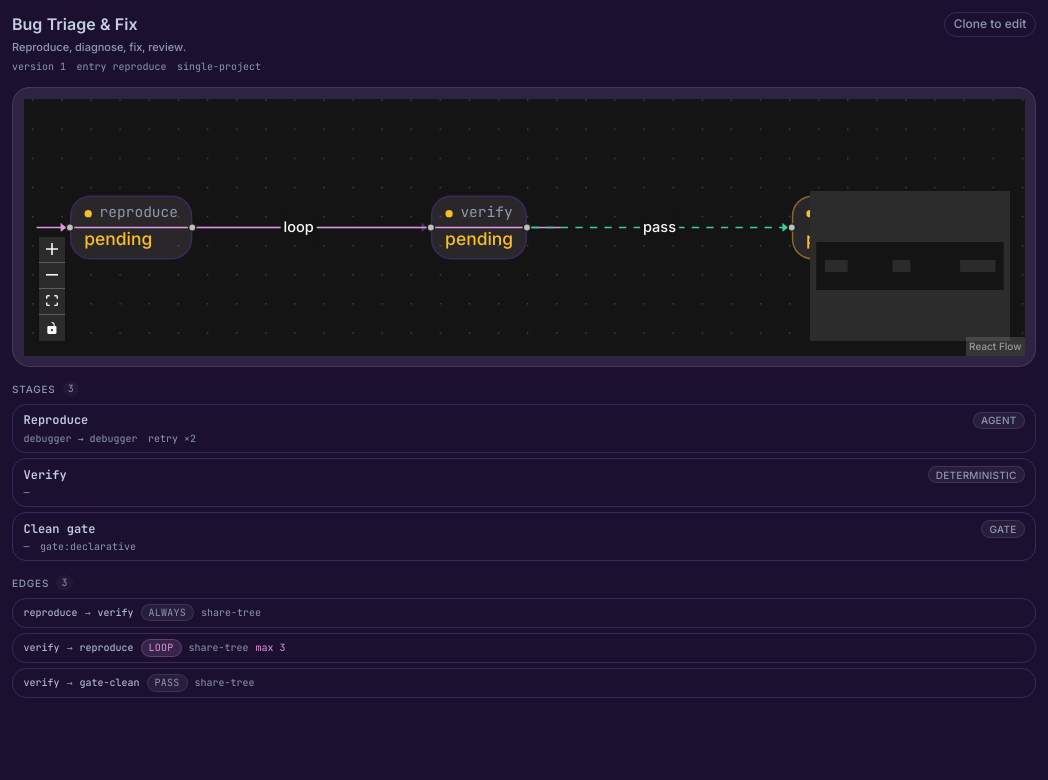
Test: PipelineDefInspector › is read-only until "Clone to edit" is pressed, then reveals a Textarea with the spec JSON
Expected: the heading "Bug Triage & Fix" is shown, [12, 14, 138, 34]
Click the button with test id "pipeline-def-clone-toggle": (990, 24) [944, 12, 1036, 36]
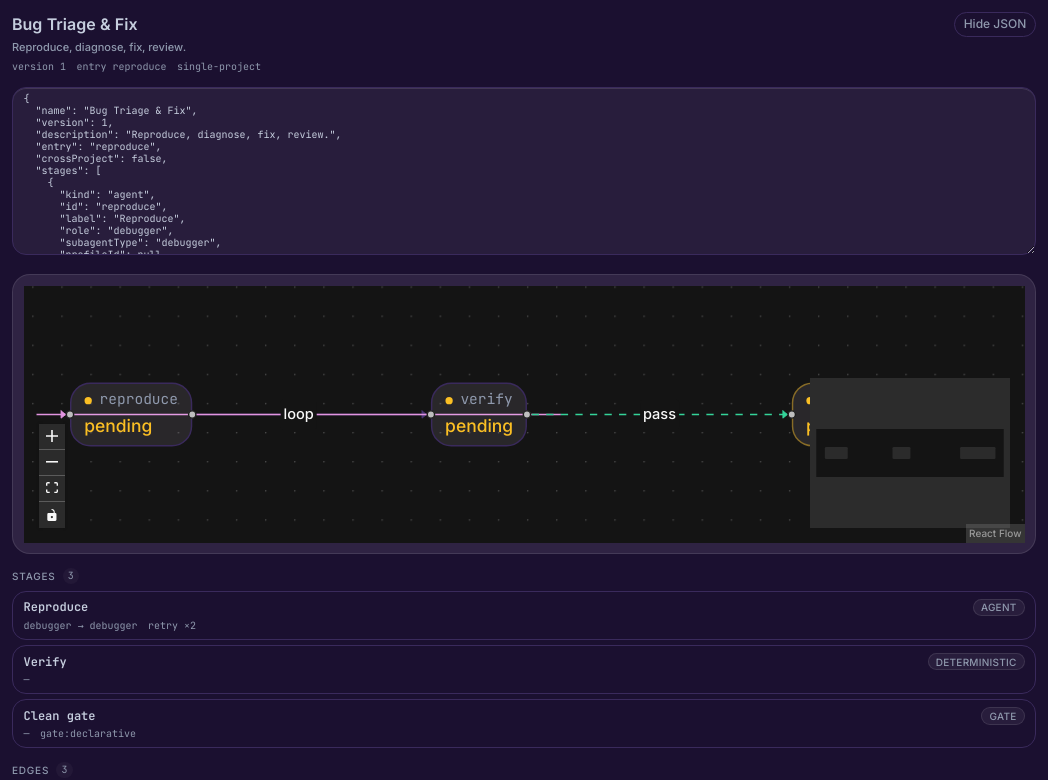
Expected: the heading "Bug Triage & Fix" is shown, [12, 14, 138, 34]
Expected: the text box with test id "pipeline-def-clone-textarea" is shown, [12, 87, 1036, 255]
